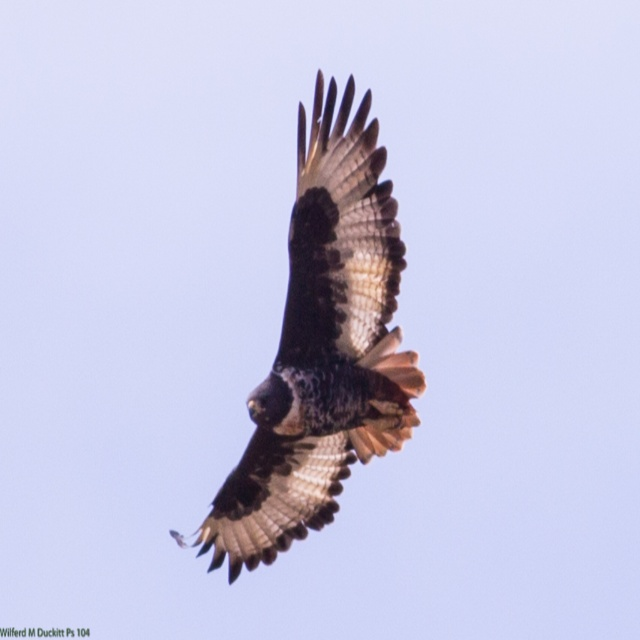Eagle: (162, 64, 427, 594)
